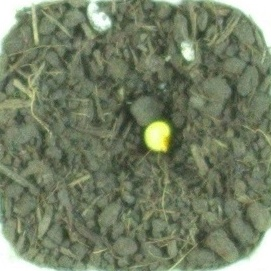chilli seed: (143, 119, 174, 154)
